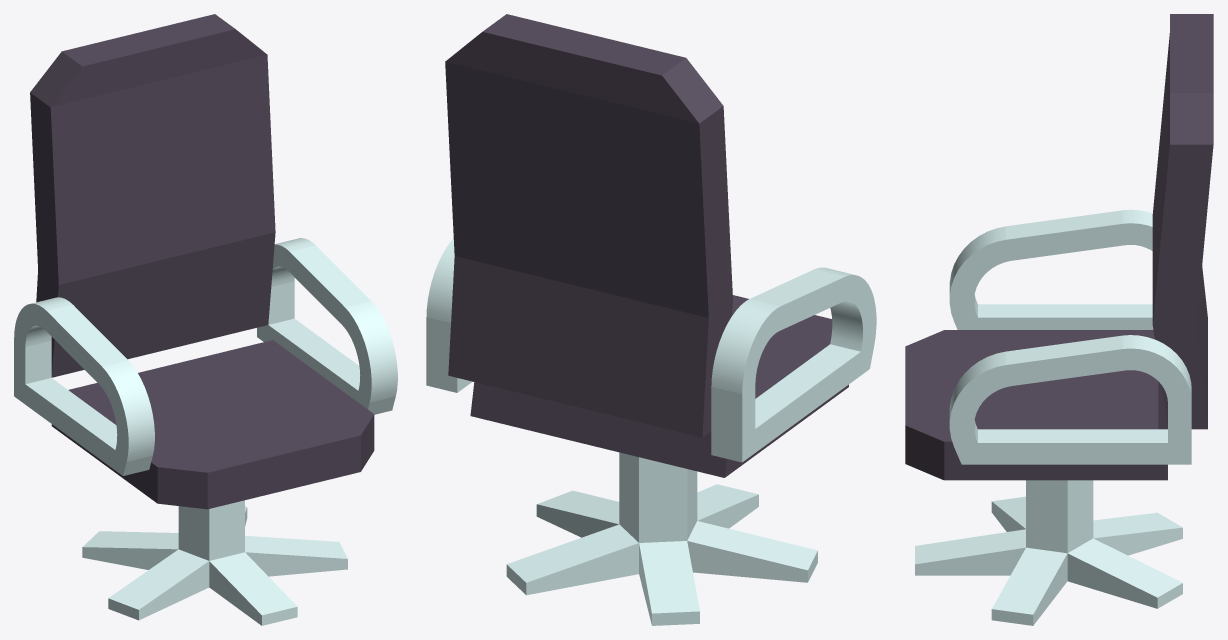
The model's file is chairDesk.glb.
3 views of the same model, side by side, from view 1: azimuth 30°, elevation 25°; view 2: azimuth 150°, elevation 25°; view 3: azimuth 270°, elevation 25° (orthographic). The views are drawn at different scales.
Parts seen in each view (by area): view 1: chair, chairDesk(Clone); view 2: chair, chairDesk(Clone); view 3: chair, chairDesk(Clone).
Boxes of the visible parts, x1,y1,x2,y2 form: chair: (14, 14, 397, 509); chairDesk(Clone): (82, 500, 347, 625); chair: (426, 14, 876, 477); chairDesk(Clone): (506, 452, 817, 625); chair: (905, 14, 1213, 480); chairDesk(Clone): (915, 480, 1182, 625).
Bounding box in the file's own units: 0.2512 × 0.4329 × 0.2357.
